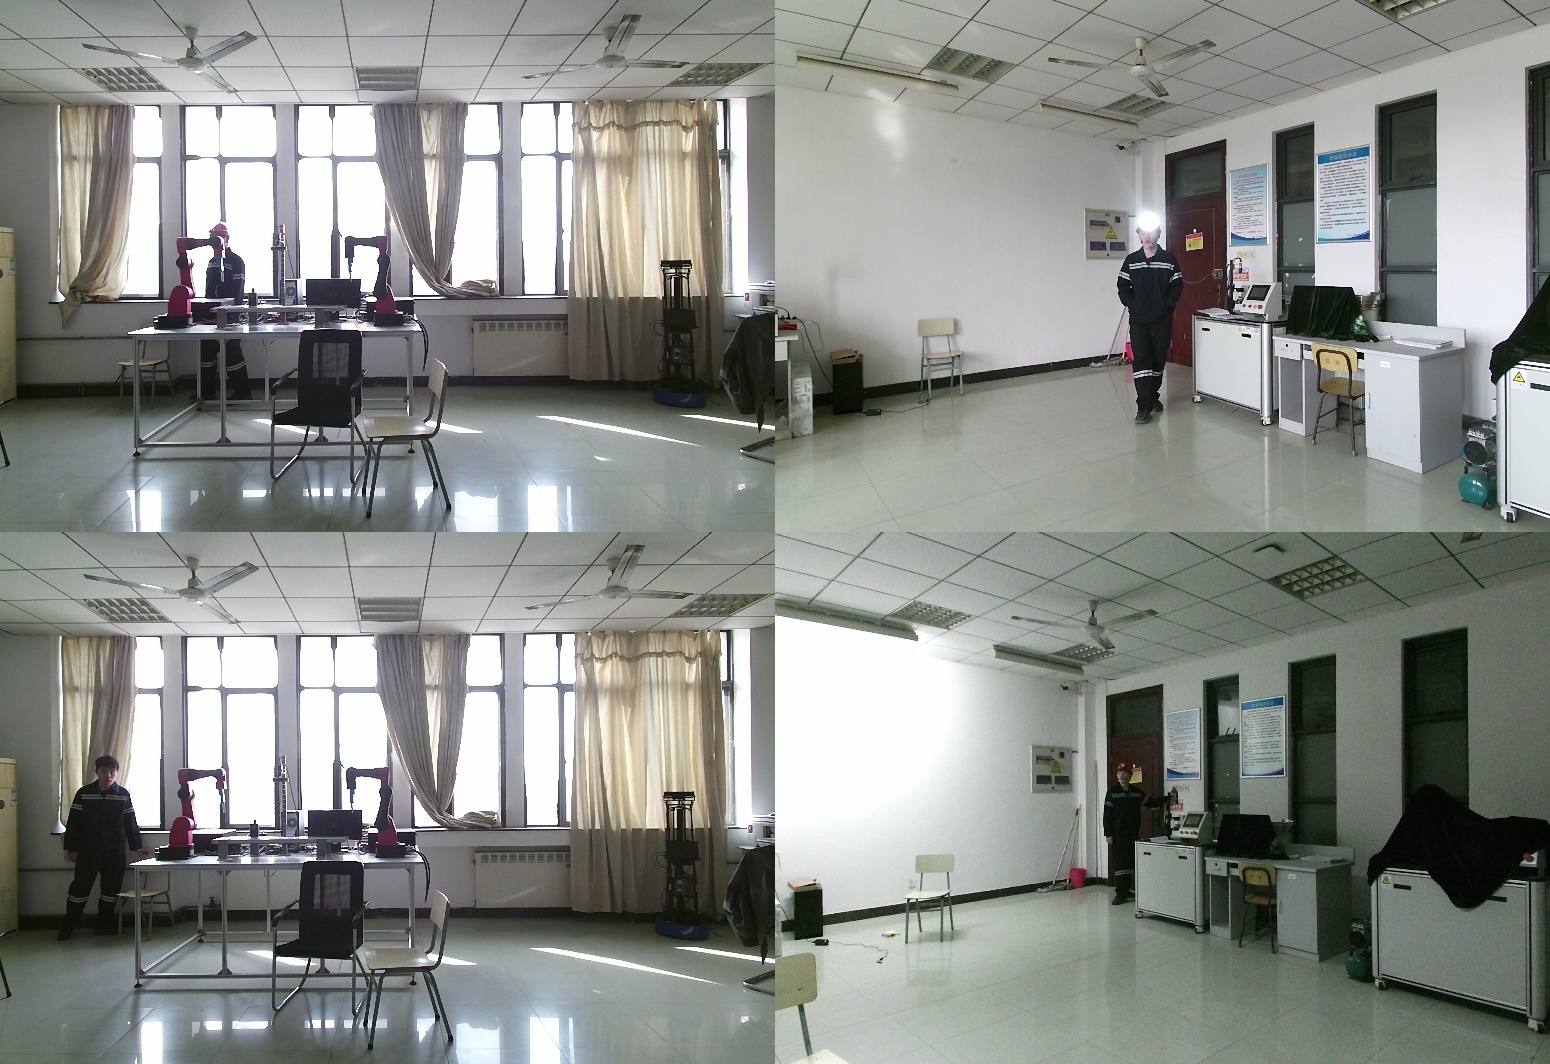person: (59, 756, 146, 941), (1114, 221, 1189, 429), (190, 224, 255, 403), (1097, 761, 1151, 909)
